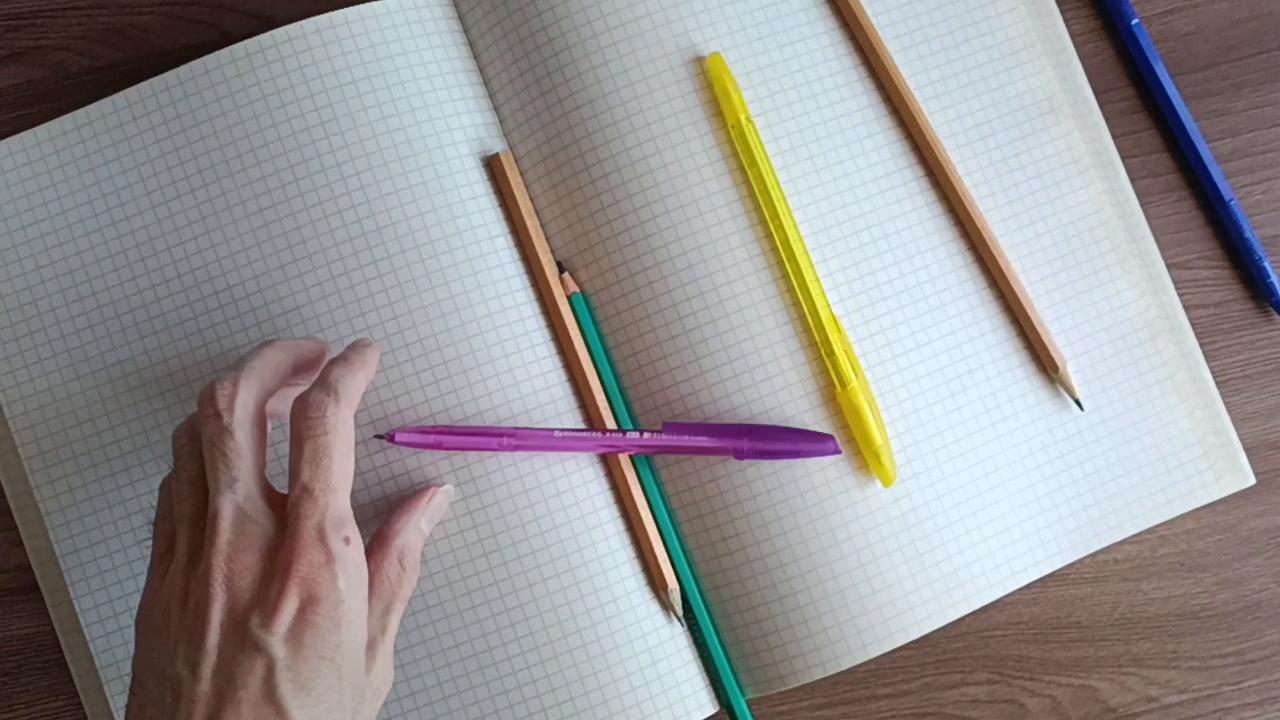pen: (697, 51, 900, 492), (1091, 2, 1280, 316), (370, 415, 844, 467)
pencil: (827, 2, 1090, 419), (483, 143, 688, 627), (559, 256, 757, 720)
